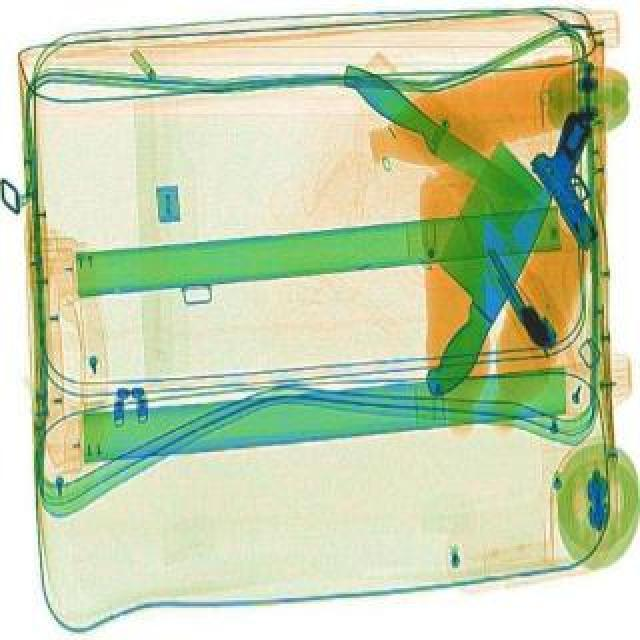gun: (516, 116, 640, 250), (474, 248, 566, 358)
knife: (390, 142, 572, 410), (334, 62, 554, 224)
